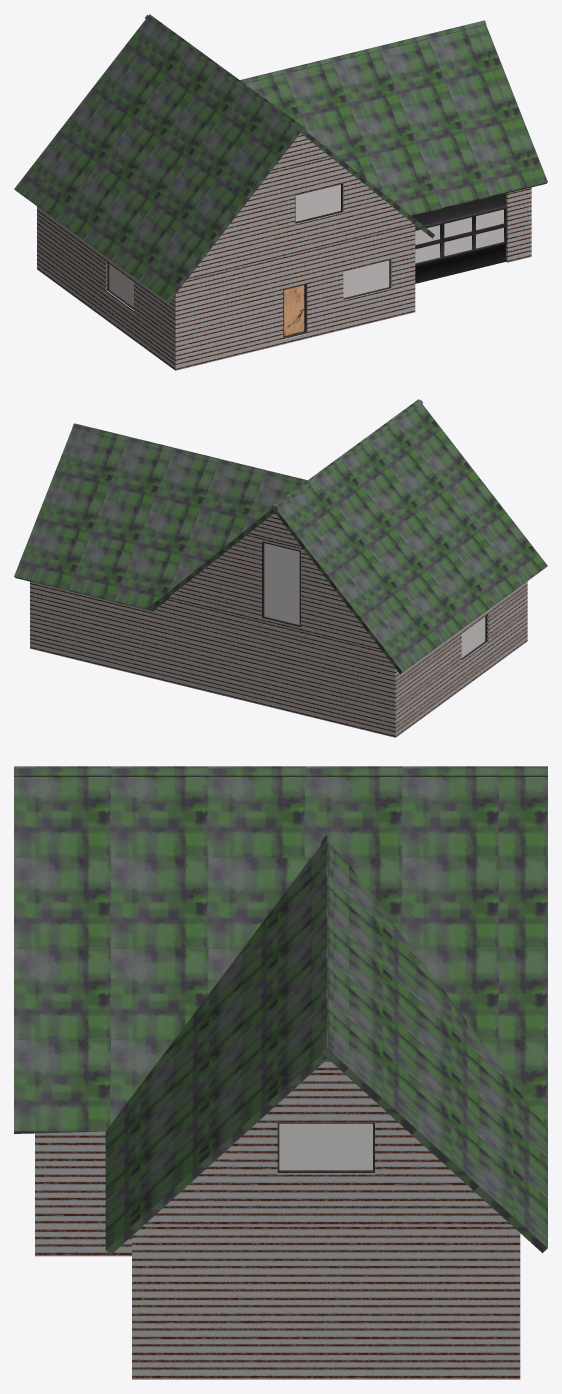
The model's file is House5.fbx.
3 views of the same model, one above another, from view 1: azimuth 30°, elevation 25°; view 2: azimuth 150°, elevation 25°; view 3: azimuth 270°, elevation 25° (orthographic). The views are drawn at different scales.
Parts seen in each view (by area): view 1: House5; view 2: House5; view 3: House5.
Part boxes in pixels (box(x1,y1,x2,y2)): House5: box(14, 14, 547, 370); House5: box(14, 399, 547, 737); House5: box(14, 766, 547, 1379).
Size of the model in its own units: 17 by 8.77 by 11.
